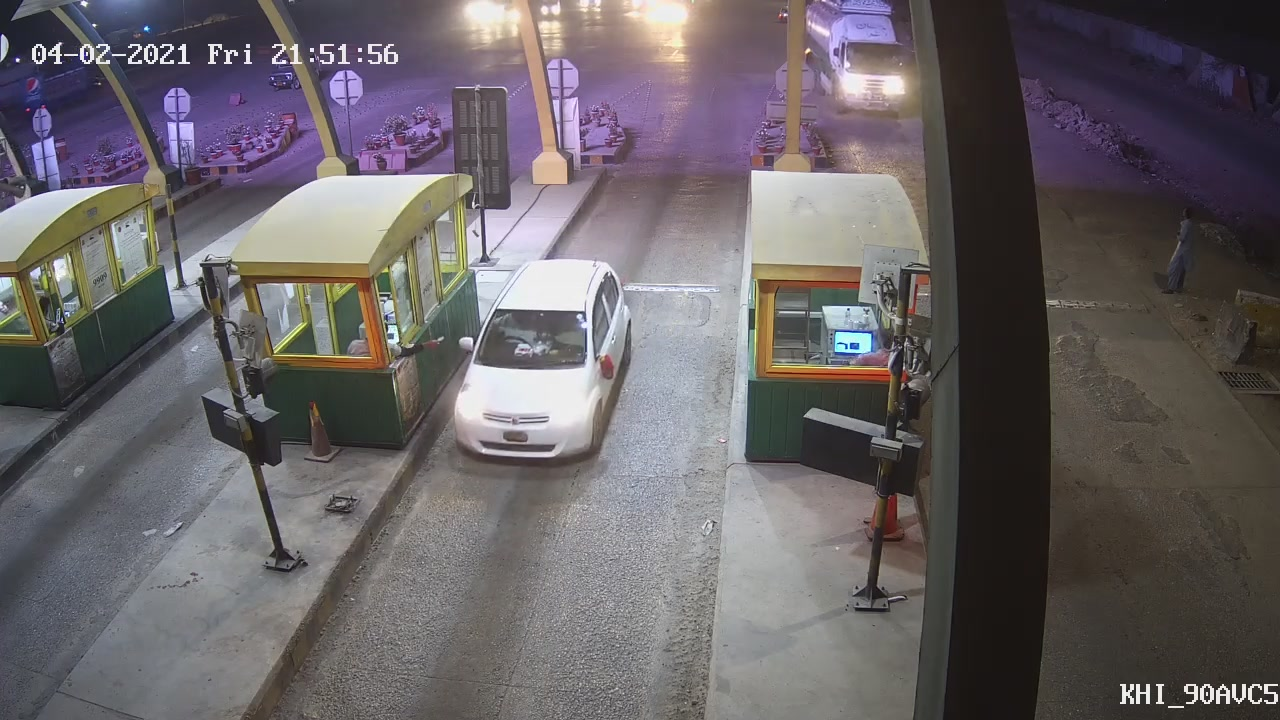F1: (445, 251, 639, 472)
